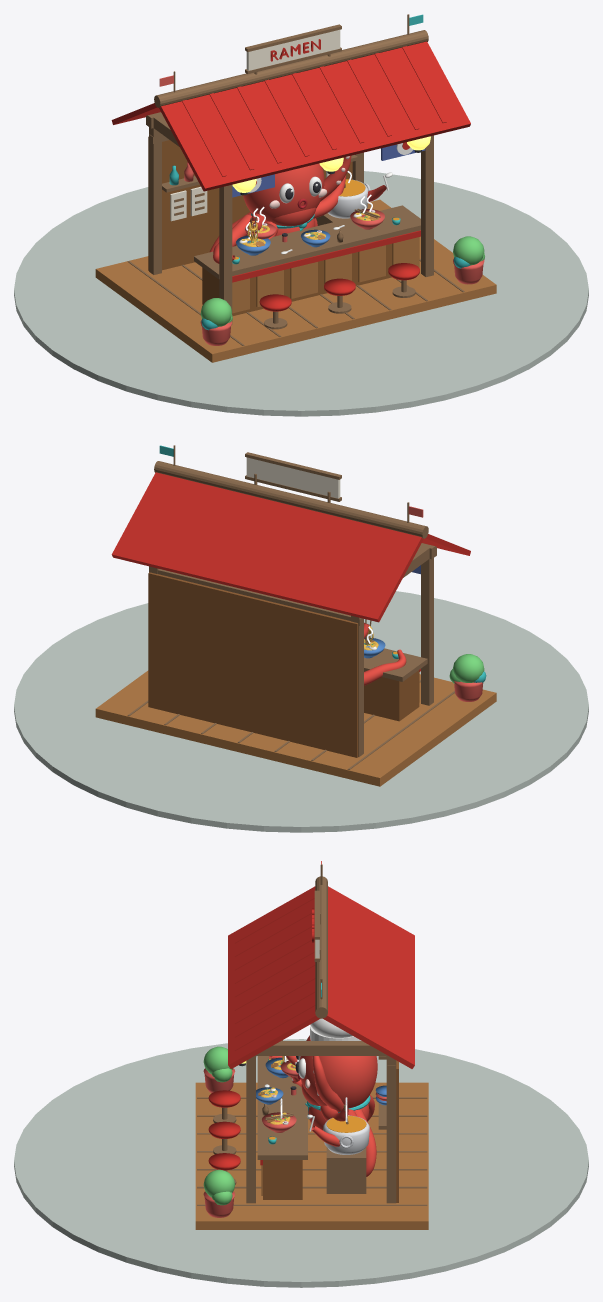
Rendered from octopus_ramen_booth.glb.
3 views of the same model, one above another, from view 1: azimuth 30°, elevation 25°; view 2: azimuth 150°, elevation 25°; view 3: azimuth 270°, elevation 25° (orthographic).
Visible parts, largest first — view 1: GroundDisc, RoofFront, Deck, BackWall, CounterTop, Ridge, OctoHead, CounterBody, Post2, Post1, Post0, SignBoard (+11 smaller); view 2: GroundDisc, BackWall, RoofBack, Deck, Ridge, CounterBody, SignBoard, Post0, BackWallTrim, CounterTop, Post2, PlantTop0 (+3 smaller); view 3: GroundDisc, Deck, RoofBack, RoofFront, CounterTop, OctoHead, Burner, SideBeamR, CounterBody, Post3, Post1, Ridge (+3 smaller).
Boxes of the visible parts, left/top/right/bottom form: GroundDisc: left=14, top=171, right=588, bottom=416; RoofFront: left=159, top=41, right=470, bottom=191; Deck: left=95, top=199, right=496, bottom=362; BackWall: left=148, top=136, right=352, bottom=270; CounterTop: left=194, top=205, right=420, bottom=278; Ridge: left=154, top=30, right=428, bottom=107; OctoHead: left=243, top=163, right=324, bottom=221; CounterBody: left=202, top=243, right=392, bottom=316; Post2: left=149, top=127, right=161, bottom=274; Post1: left=421, top=135, right=433, bottom=276; Post0: left=219, top=185, right=232, bottom=324; SignBoard: left=246, top=29, right=340, bottom=70; GroundDisc: left=14, top=591, right=588, bottom=832; BackWall: left=148, top=572, right=358, bottom=757; RoofBack: left=111, top=472, right=423, bottom=622; Deck: left=95, top=670, right=496, bottom=786; Ridge: left=154, top=461, right=428, bottom=538; CounterBody: left=364, top=670, right=419, bottom=721; SignBoard: left=246, top=457, right=340, bottom=498; Post0: left=421, top=558, right=433, bottom=705; BackWallTrim: left=157, top=569, right=363, bottom=625; CounterTop: left=364, top=648, right=427, bottom=681; Post2: left=351, top=615, right=363, bottom=756; PlantTop0: left=453, top=654, right=484, bottom=682; GroundDisc: left=14, top=1039, right=588, bottom=1287; Deck: left=195, top=1082, right=428, bottom=1229; RoofBack: left=323, top=886, right=414, bottom=1068; RoofFront: left=228, top=886, right=320, bottom=1068; CounterTop: left=257, top=1056, right=307, bottom=1159; OctoHead: left=300, top=1035, right=377, bottom=1108; Burner: left=326, top=1147, right=366, bottom=1193; SideBeamR: left=256, top=1041, right=386, bottom=1055; CounterBody: left=263, top=1160, right=302, bottom=1199; Post3: left=386, top=1057, right=396, bottom=1203; Post1: left=246, top=1057, right=255, bottom=1203; Ridge: left=315, top=876, right=327, bottom=1018.
Bounding box in the file's own units: 10.86 × 5.26 × 10.86.
